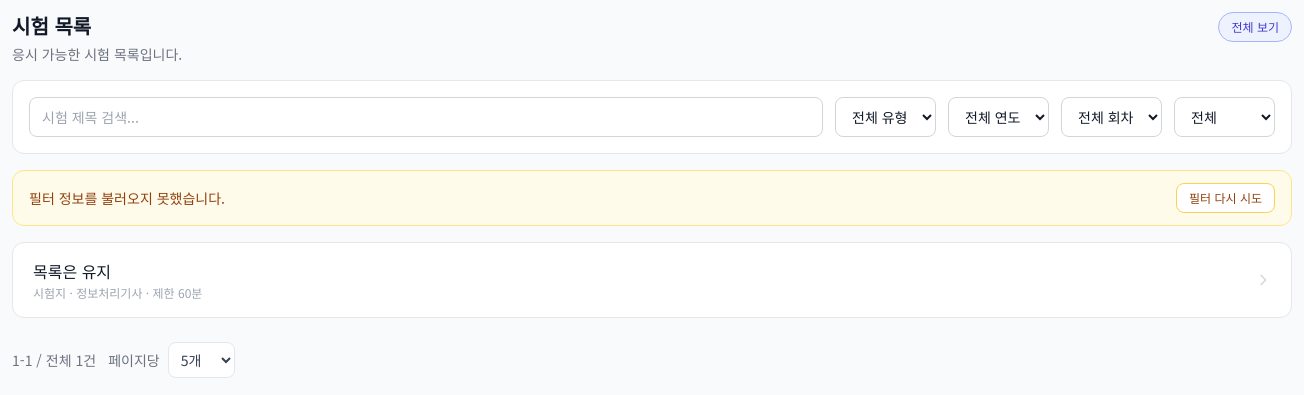
사용자 시험 서버 목록 › 필터 메타데이터 조회 실패를 목록과 분리해 표시하고 재시도한다
The image size is (1304, 395).
Expected: the text "목록은 유지" is shown, [33,259,111,283]
Expected: the text "필터 정보를 불러오지 못했습니다." is shown, [29,188,225,208]
Click the button "필터 다시 시도" at coordinates (1226, 198), box [1176,183,1275,213]
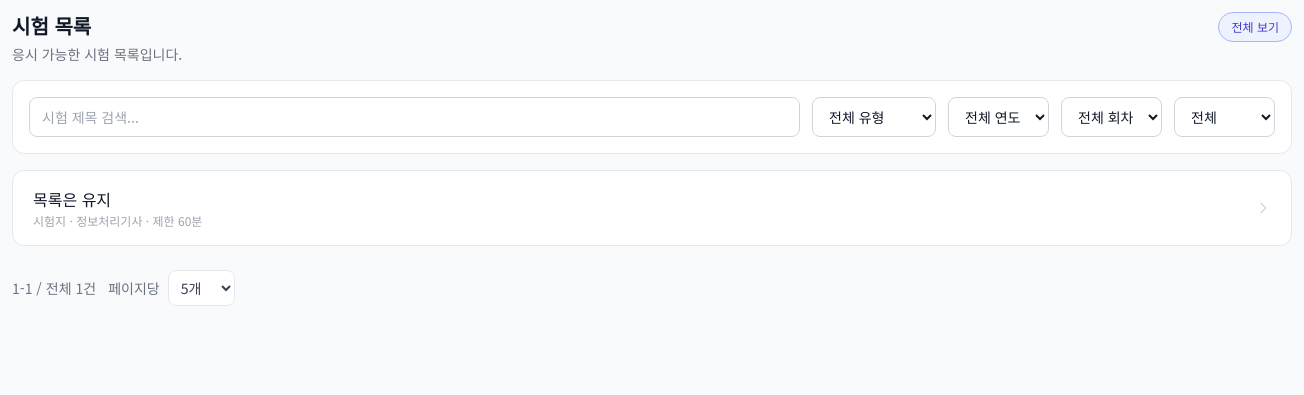
Now the text "필터 정보를 불러오지 못했습니다." is gone
